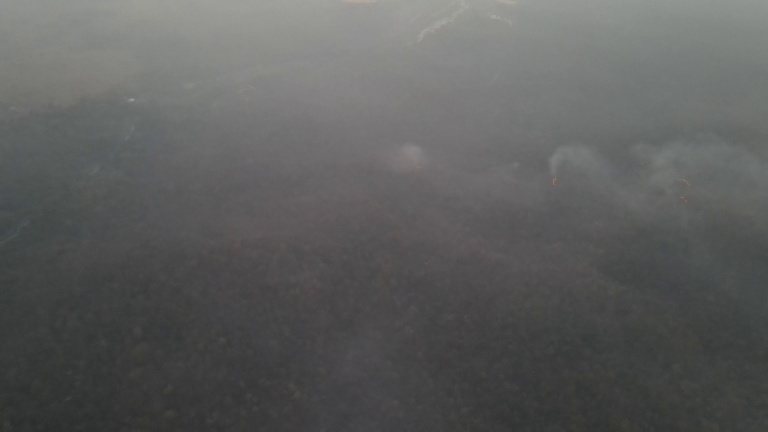fire: (657, 169, 693, 208), (545, 171, 569, 197)
smoke: (640, 137, 768, 255), (543, 138, 630, 238), (386, 142, 430, 175)
